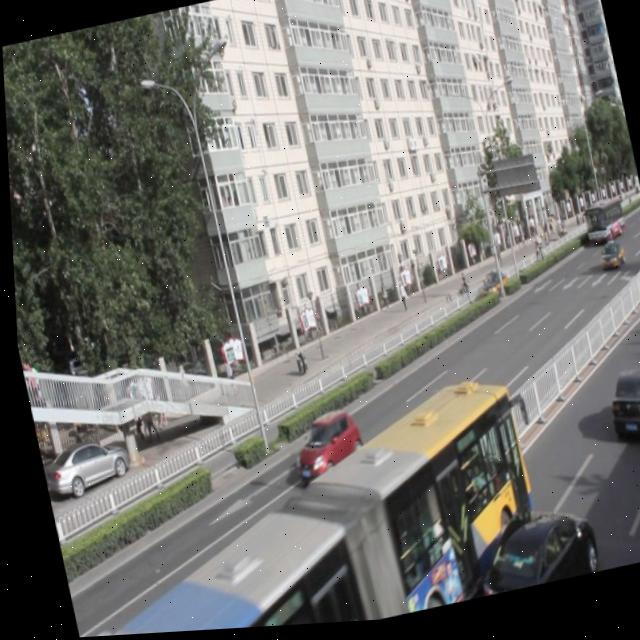car: (468, 505, 594, 602), (284, 409, 363, 488), (596, 367, 640, 453), (473, 273, 504, 306)
van: (44, 377, 542, 639), (624, 455, 640, 568)
